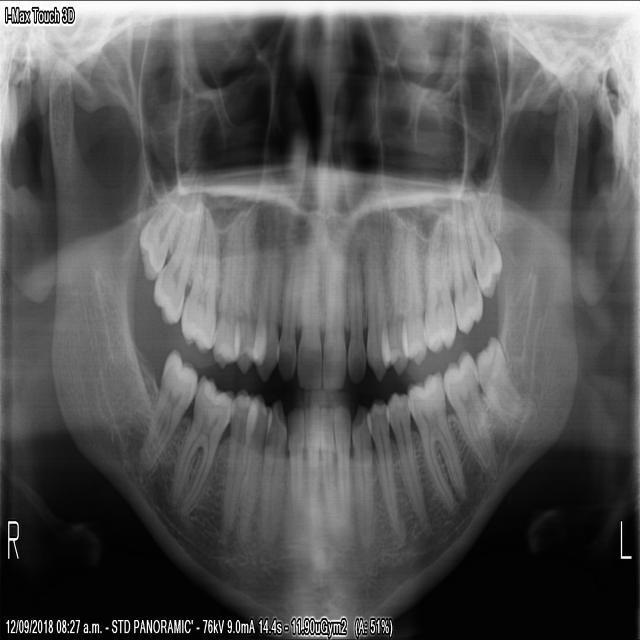LCD: (349, 402, 372, 553)
LCU: (363, 236, 389, 385)
LID: (316, 403, 336, 555), (332, 403, 351, 541)
LIU: (321, 238, 346, 392), (344, 244, 365, 389)
LMD: (404, 365, 466, 512), (442, 346, 497, 485), (472, 331, 522, 417)
LMU: (420, 223, 455, 356), (449, 198, 483, 334), (466, 191, 502, 302)
LPMD: (384, 387, 431, 540), (363, 396, 399, 542)
LPMU: (378, 218, 408, 377), (398, 218, 426, 369)
RCD: (259, 395, 286, 562)
RCU: (247, 221, 279, 383)
RID: (301, 401, 319, 548), (285, 402, 303, 536)
RIU: (294, 244, 321, 391), (273, 235, 298, 382)
RMD: (169, 373, 233, 519), (135, 341, 196, 474)
RMU: (150, 181, 203, 328), (178, 211, 219, 357), (135, 206, 171, 281)
RPMD: (218, 385, 255, 540), (235, 390, 270, 547)
RPMU: (209, 220, 239, 370), (232, 221, 254, 374)
